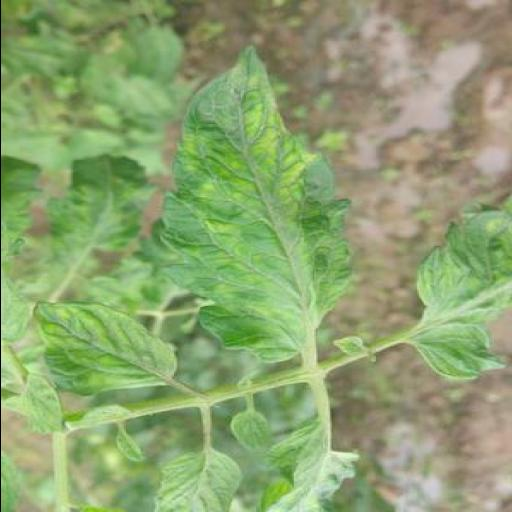disease_tomato: (154, 42, 358, 370), (410, 183, 512, 383), (30, 294, 192, 400)
